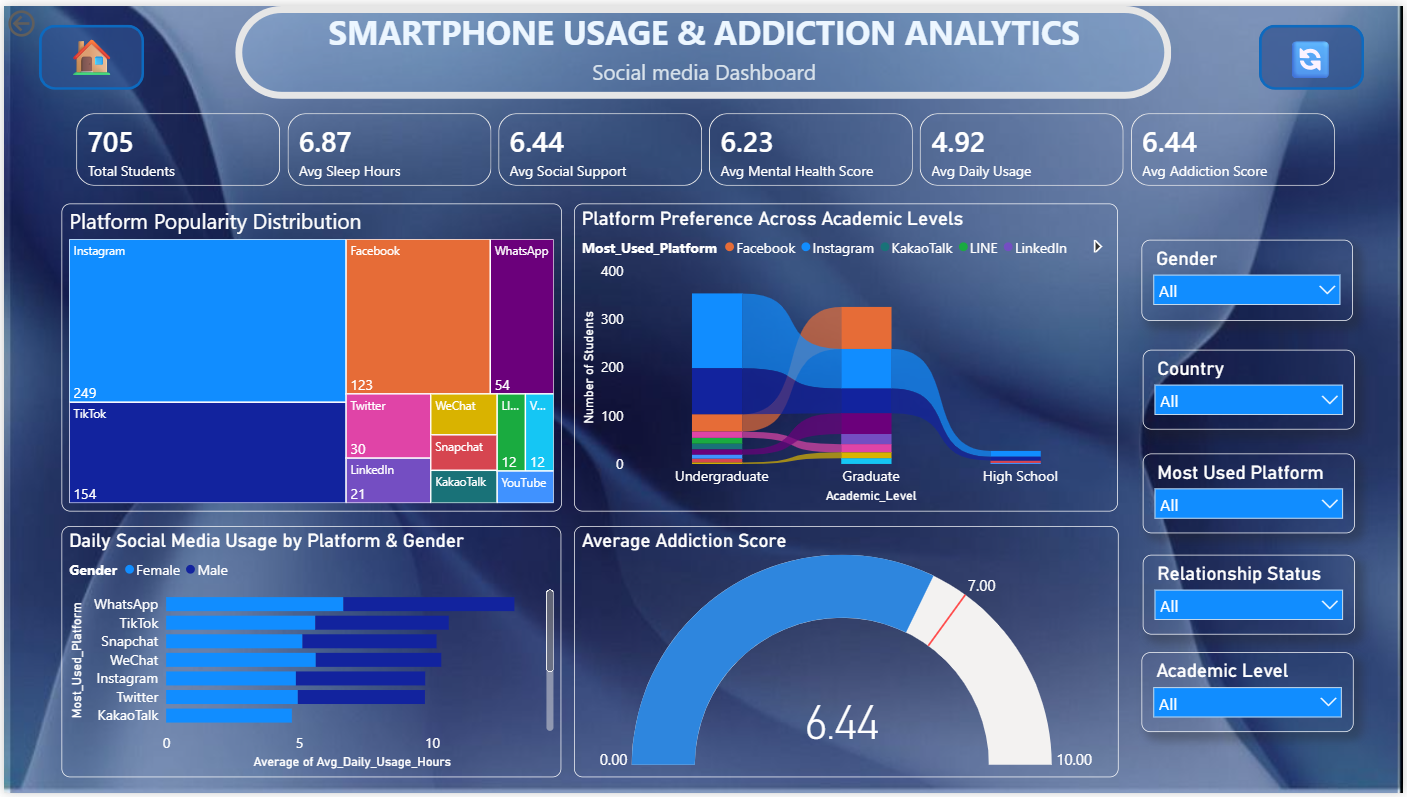

The page's visual inventory and layout, read from the dashboard file:
{"tool":"powerbi","page":{"name":"Social Media","canvas":[1600,900],"ordinal":3},"visuals":[{"type":"textbox","box":[0,0,1600.3,64],"z":0},{"type":"textbox","box":[0,53.8,1600.3,48],"z":1000},{"type":"shape","box":[264.5,0,1069.8,106.1],"z":2000},{"type":"cardVisual","fields":{"Data":["Students Social Media Addiction.Total Students","Students Social Media Addiction.Avg Sleep Hours","Students Social Media Addiction.Avg Social Support","Students Social Media Addiction.Avg Mental Health Score","Students Social Media Addiction.Avg Daily Usage","Students Social Media Addiction.Avg Addiction Score"]},"box":[65.4,106.1,1476.7,117.7],"z":3000},{"type":"slicer","fields":{"Values":["Students Social Media Addiction.Gender"]},"box":[1299.4,267.4,241.3,93],"z":4000},{"type":"slicer","fields":{"Values":["Students Social Media Addiction.Affects_Academic_Performance"]},"box":[1300.9,392.4,242.7,91.6],"z":5000},{"type":"slicer","fields":{"Values":["Students Social Media Addiction.Most_Used_Platform"]},"box":[1300.9,511.6,242.7,91.6],"z":6000},{"type":"slicer","fields":{"Values":["Students Social Media Addiction.Relationship_Status"]},"box":[1300.9,626.5,242.7,91.6],"z":7000},{"type":"slicer","fields":{"Values":["Students Social Media Addiction.Academic_Level"]},"box":[1299.4,738.4,242.7,91.6],"z":8000},{"type":"treemap","title":"Platform Popularity Distribution","fields":{"Group":["Students Social Media Addiction.Most_Used_Platform"],"Values":["CountNonNull(Students Social Media Addiction.Student_ID)"]},"box":[65,225,571.7,351.7],"z":9000},{"type":"ribbonChart","title":"Platform Preference Across Academic Levels","fields":{"Category":["Students Social Media Addiction.Academic_Level"],"Series":["Students Social Media Addiction.Most_Used_Platform"],"Y":["CountNonNull(Students Social Media Addiction.Student_ID)"]},"box":[651.7,225,621.7,351.7],"z":10000},{"type":"barChart","title":"Daily Social Media Usage by Platform & Gender","fields":{"Category":["Students Social Media Addiction.Most_Used_Platform"],"Y":["Avg(Students Social Media Addiction.Avg_Daily_Usage_Hours)"],"Series":["Students Social Media Addiction.Gender"]},"box":[65.7,594.3,571.4,287.1],"z":11000},{"type":"actionButton","box":[0,0,100,40],"z":12000},{"type":"gauge","title":"Average Addiction Score","fields":{"Y":["Avg(Students Social Media Addiction.Addicted_Score)"]},"box":[652,594,622,287],"z":13000},{"type":"shape","box":[1434.3,21.4,120,74.3],"z":14000},{"type":"shape","box":[40,21.4,120,74.3],"z":15000},{"type":"textbox","box":[65.6,21.1,68.9,82.2],"z":16000},{"type":"textbox","box":[1458.6,25.7,70,77.1],"z":17000}]}

Visuals, with their boxes in screenshot pixels (x1, y1, x2, y2), scaled from the page's 1600x900 canvas onto the 1407x797 screenshot:
textbox: crop(0, 0, 1406, 57)
textbox: crop(0, 48, 1406, 90)
shape: crop(233, 0, 1173, 94)
cardVisual - Students Social Media Addiction.Total Students x Students Social Media Addiction.Avg Sleep Hours: crop(58, 94, 1356, 198)
slicer - Students Social Media Addiction.Gender: crop(1143, 237, 1355, 319)
slicer - Students Social Media Addiction.Affects_Academic_Performance: crop(1144, 347, 1357, 429)
slicer - Students Social Media Addiction.Most_Used_Platform: crop(1144, 453, 1357, 534)
slicer - Students Social Media Addiction.Relationship_Status: crop(1144, 555, 1357, 636)
slicer - Students Social Media Addiction.Academic_Level: crop(1143, 654, 1356, 735)
"Platform Popularity Distribution" treemap: crop(57, 199, 560, 511)
"Platform Preference Across Academic Levels" ribbonChart: crop(573, 199, 1120, 511)
"Daily Social Media Usage by Platform & Gender" barChart: crop(58, 526, 560, 781)
actionButton: crop(0, 0, 88, 35)
"Average Addiction Score" gauge: crop(573, 526, 1120, 780)
shape: crop(1261, 19, 1367, 85)
shape: crop(35, 19, 141, 85)
textbox: crop(58, 19, 118, 91)
textbox: crop(1283, 23, 1344, 91)
